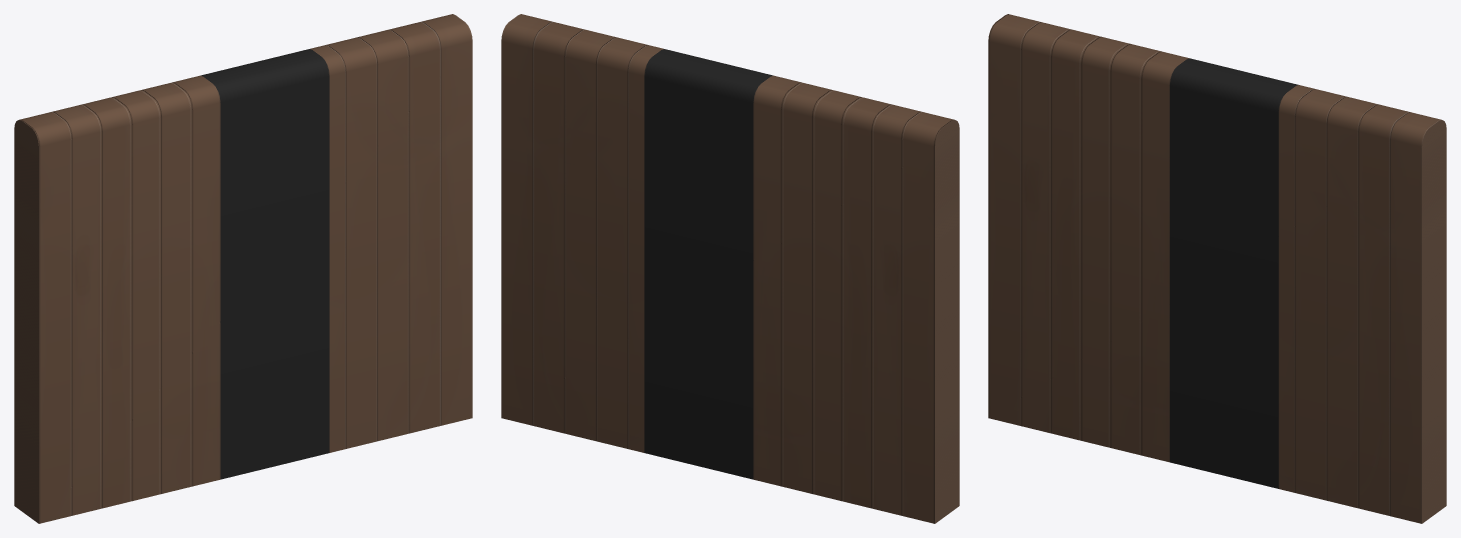
File: Wall01_GEO.fbx
3 views of the same model, side by side, from view 1: azimuth 30°, elevation 25°; view 2: azimuth 150°, elevation 25°; view 3: azimuth 330°, elevation 25° (orthographic).
Visible parts, largest first — view 1: Wall01_GEO; view 2: Wall01_GEO; view 3: Wall01_GEO.
Part boxes in pixels (x1,y1,x2,y2): Wall01_GEO: (14,14,472,523); Wall01_GEO: (501,14,959,523); Wall01_GEO: (988,14,1446,523).
Bounding box in the file's own units: 567 × 488 × 55.76.
Materials: 1 (1 with a texture image).
